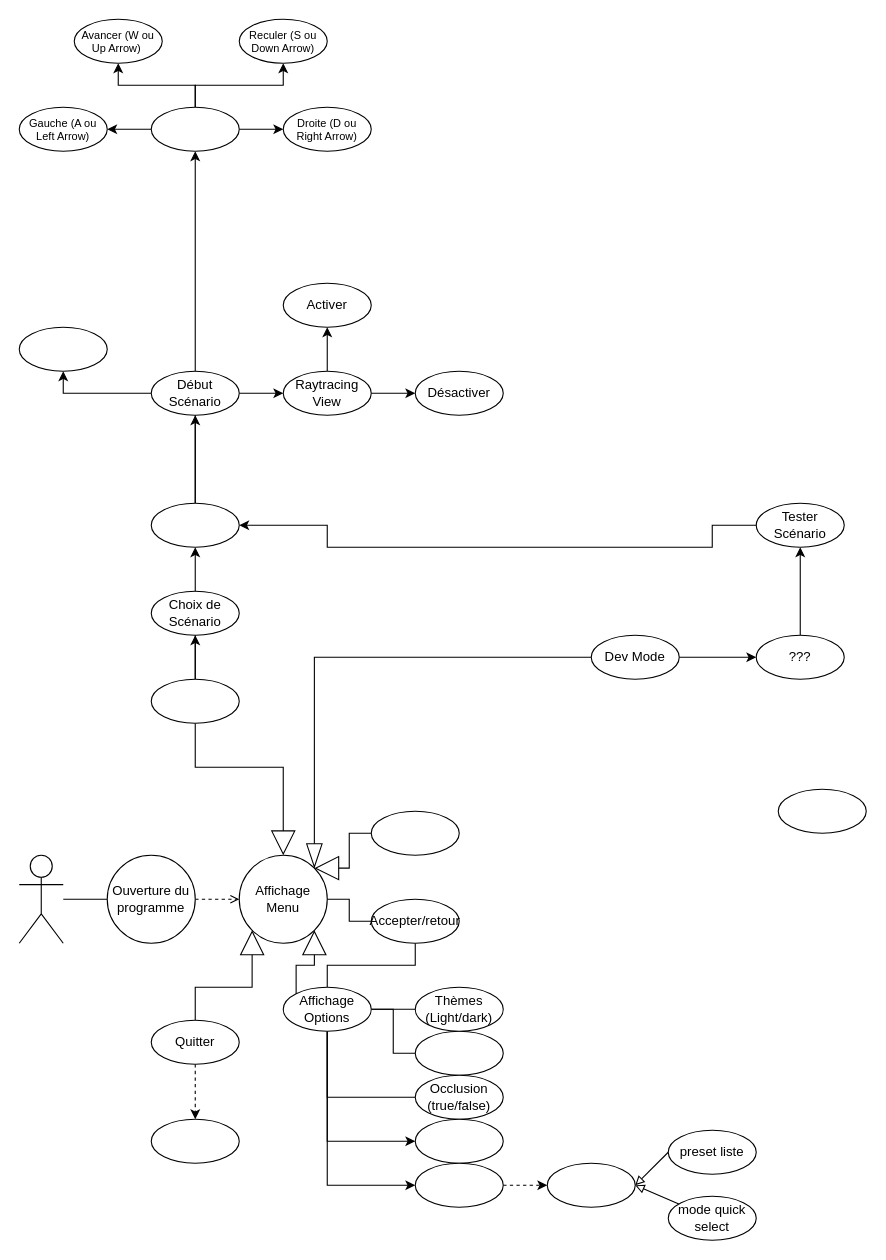
This 886x1260 diagram has some shape labels left out. Here are the shapes that lost their labels. From the top down, the centre of each, then its label:
At (x=194, y=128): "Mouvement".
At (x=62, y=348): "Menu".
At (x=194, y=524): "Charger Scénario".
At (x=194, y=700): "Start Scénario".
At (x=414, y=832): "Lien Github".
At (x=40, y=898): "Actor".
At (x=458, y=1052): "Choix Languages".
At (x=194, y=1140): "Arrêt".
At (x=458, y=1140): "Configurer touches".
At (x=458, y=1184): "Configuer audio".
At (x=590, y=1184): "EQ personalisé".
